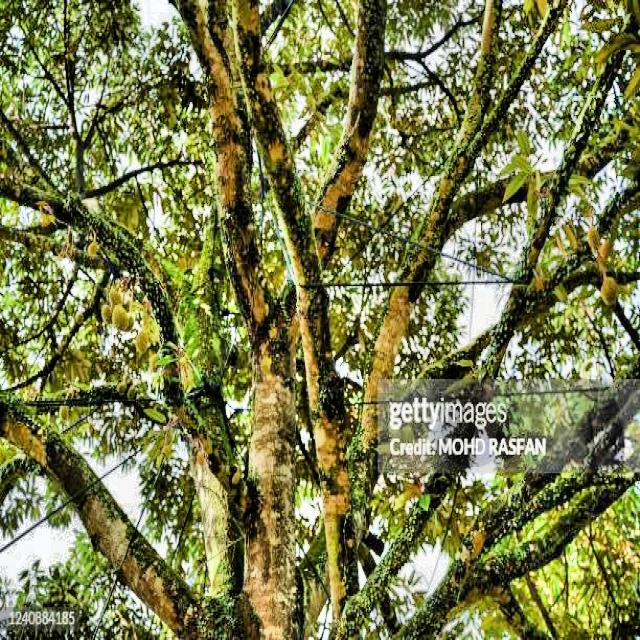arvore: (216, 161, 325, 635)
